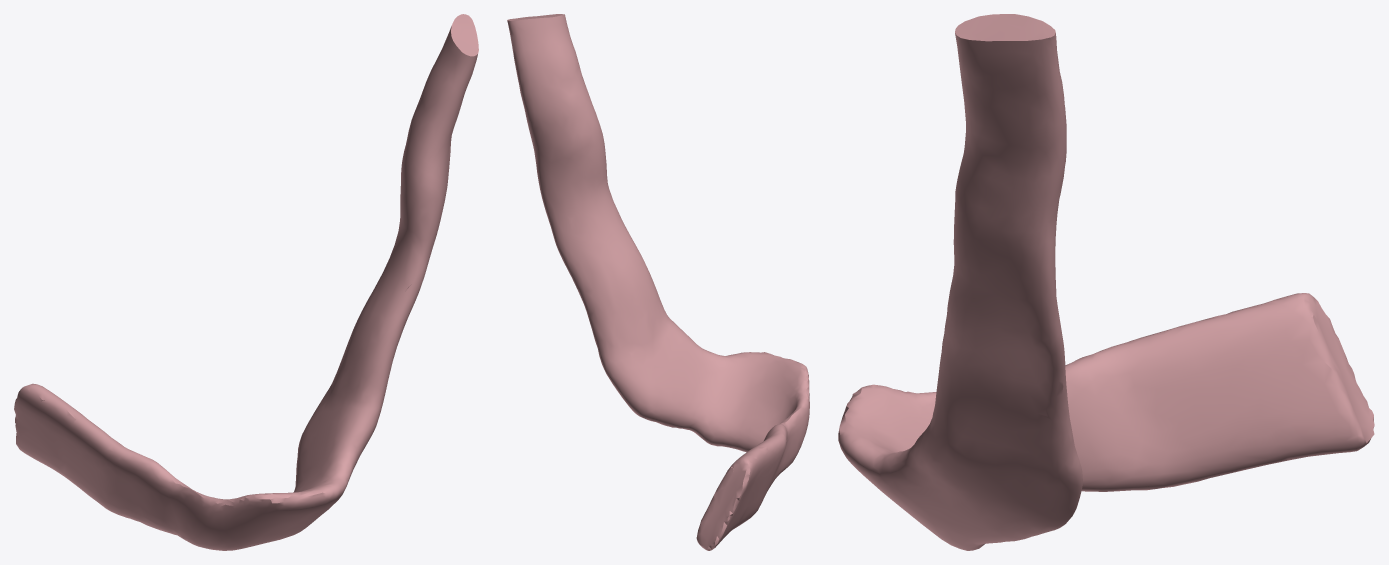
Rendered from fma75193-l_mm3439.glb.
3 renders of one model, left to right at view 1: azimuth 30°, elevation 25°; view 2: azimuth 150°, elevation 25°; view 3: azimuth 270°, elevation 25°, orthographic. The views are drawn at different scales.
Visible parts, largest first — view 1: FMA75193-L_MM3439; view 2: FMA75193-L_MM3439; view 3: FMA75193-L_MM3439.
Boxes of the visible parts, <box> form: FMA75193-L_MM3439: <box>14,14,478,550</box>; FMA75193-L_MM3439: <box>507,14,809,550</box>; FMA75193-L_MM3439: <box>838,14,1374,550</box>.
Size of the model in its own units: 0.0137 by 0.0164 by 0.0119.
